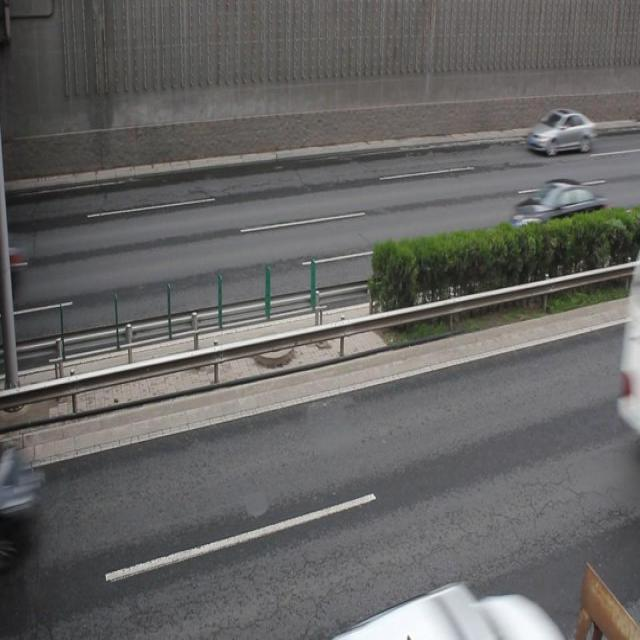car: (354, 577, 554, 640), (508, 176, 607, 253), (525, 105, 594, 155)
